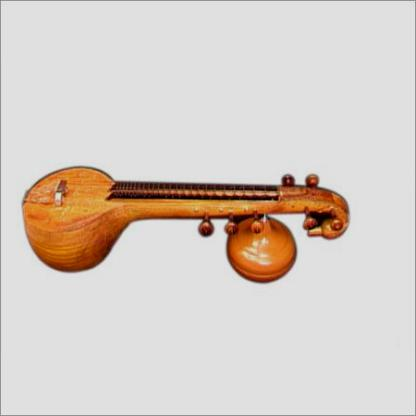Veena: (13, 161, 357, 288)
